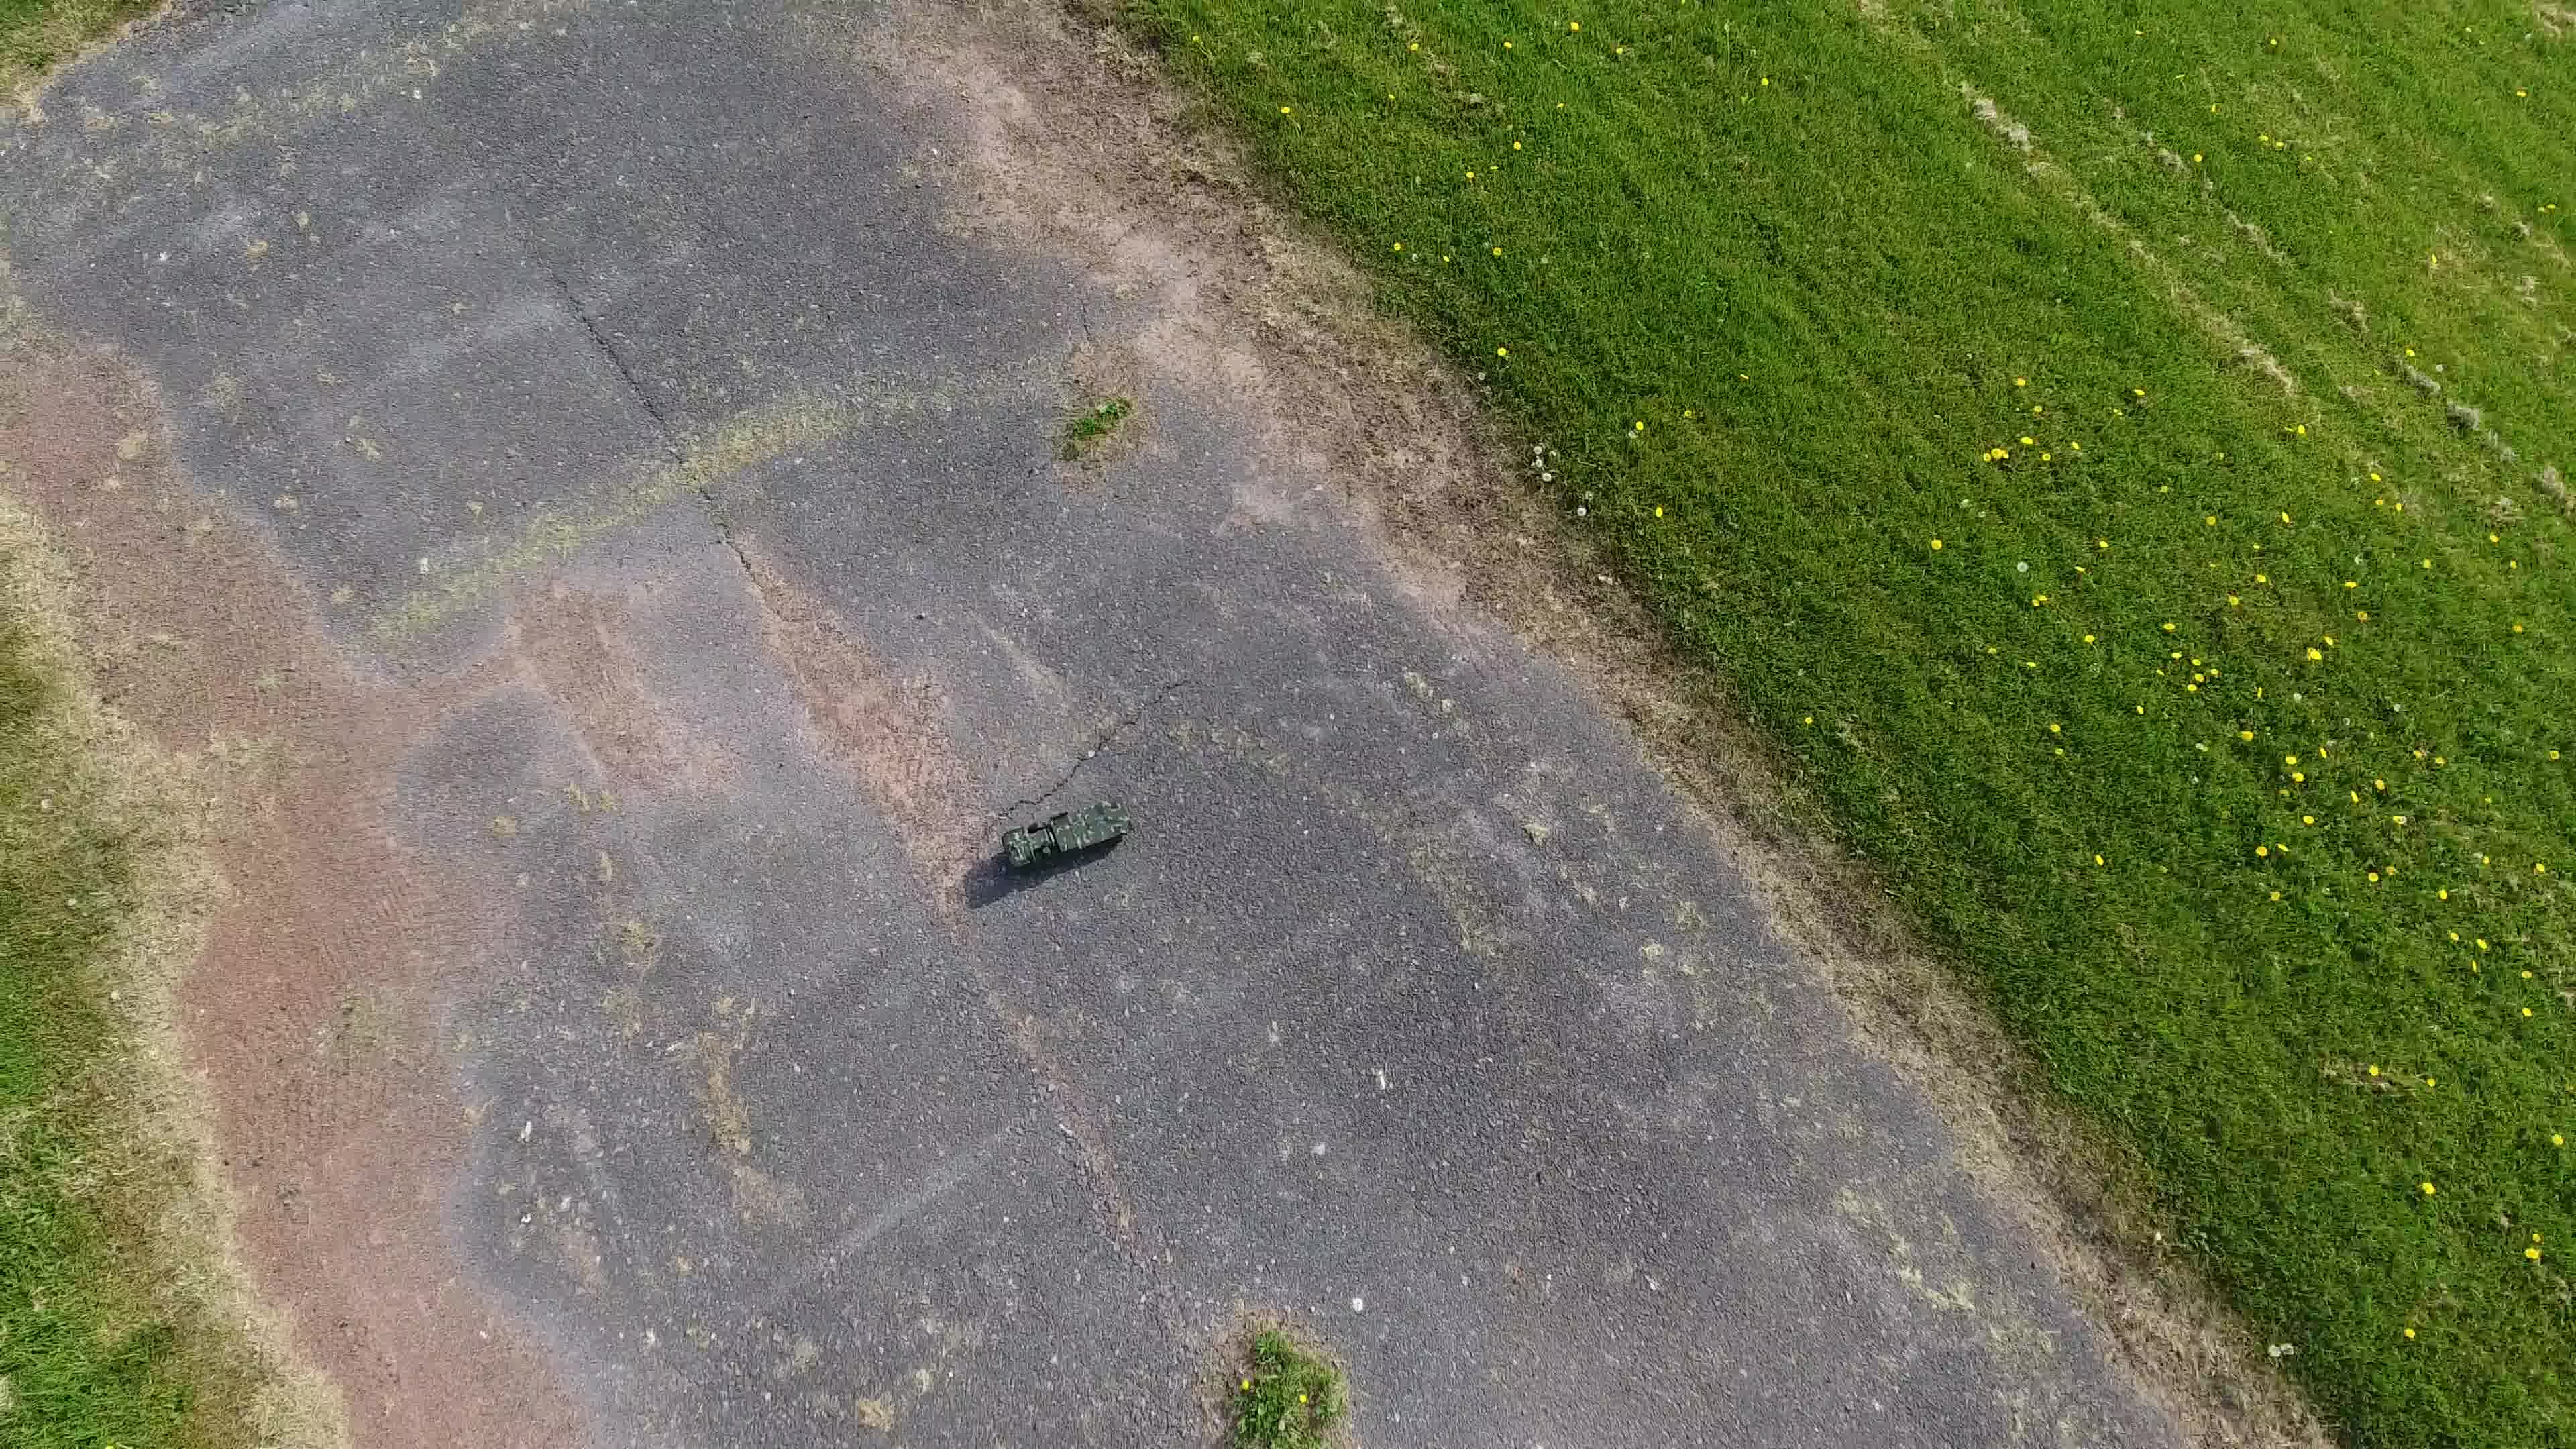transporter9_camo: (1000, 794, 1136, 878)
